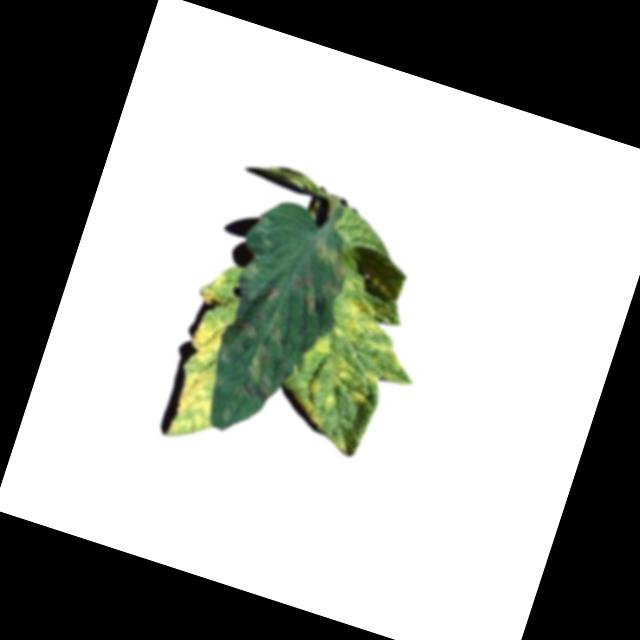Leaf_Mold: (265, 265, 439, 471), (213, 224, 353, 444), (153, 266, 257, 448)
